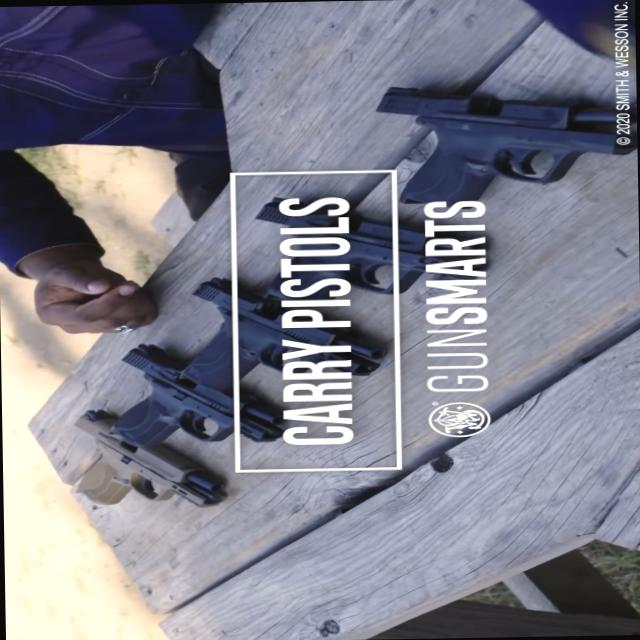handgun: (351, 45, 628, 226), (261, 178, 458, 331), (172, 245, 344, 418), (48, 404, 230, 535), (101, 339, 262, 457)
